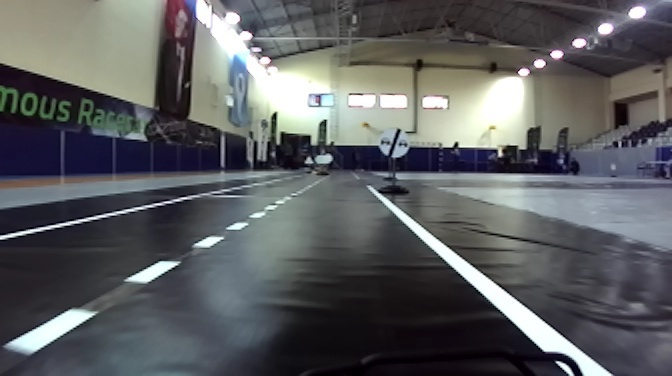sollama_serbest: (378, 127, 410, 158)
